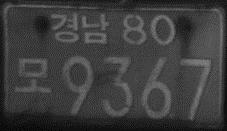0: (150, 13, 176, 47)
3: (100, 54, 133, 118)
6: (139, 56, 172, 120)
7: (177, 55, 212, 123)
8: (121, 11, 146, 47)
9: (61, 54, 95, 116)
경남_O: (49, 10, 110, 45)
모: (12, 55, 54, 95)
